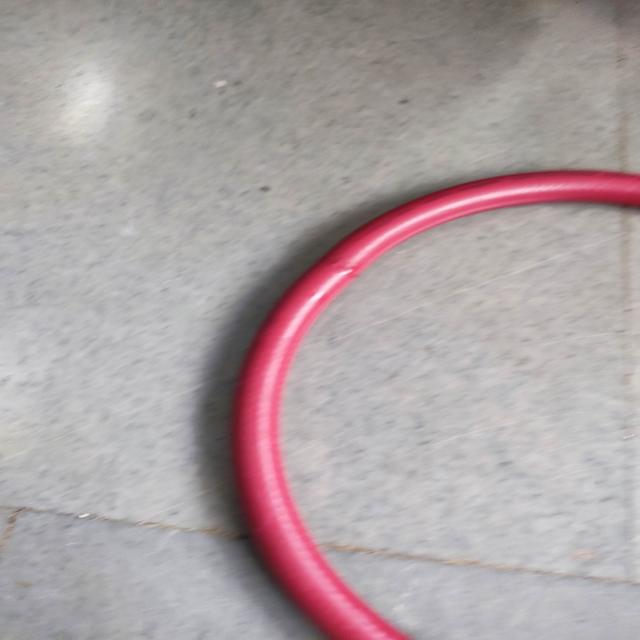daire: (234, 167, 640, 629)
